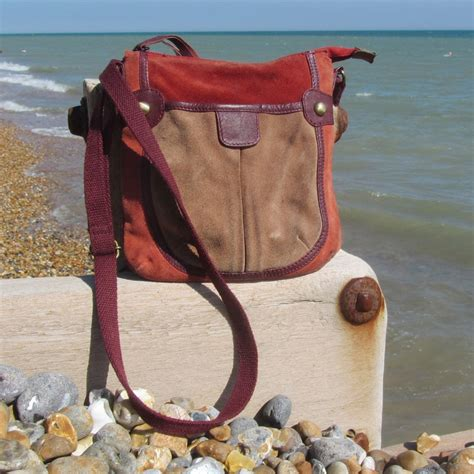gamuza: (113, 46, 343, 284)
